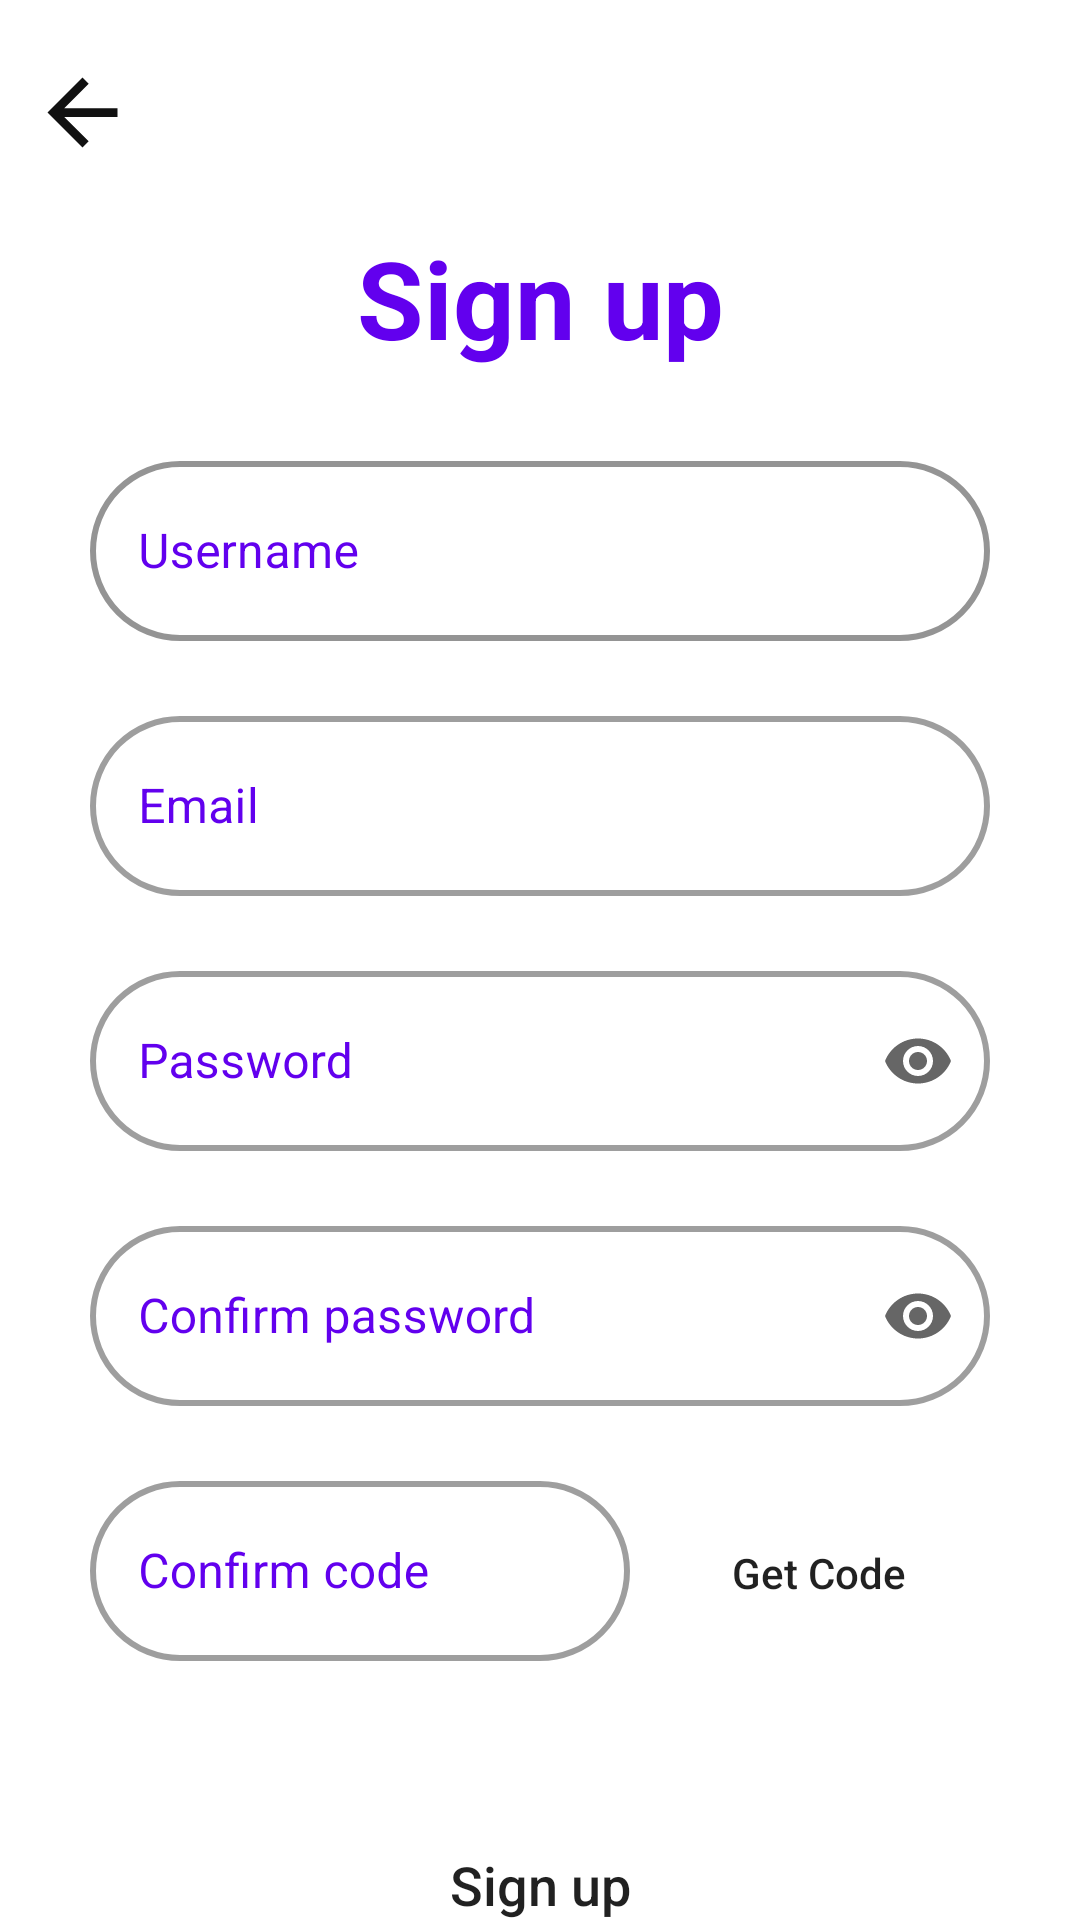

Icons on this 1080px×1920px Android screen, each with its box as {"left": x1, "top": y1, "right": x2, "bottom": y2}:
arrow back: {"left": 47, "top": 77, "right": 118, "bottom": 148}
